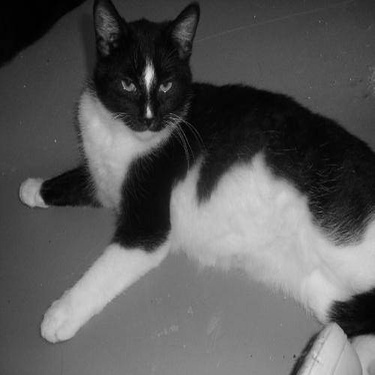cat: (18, 2, 371, 346)
